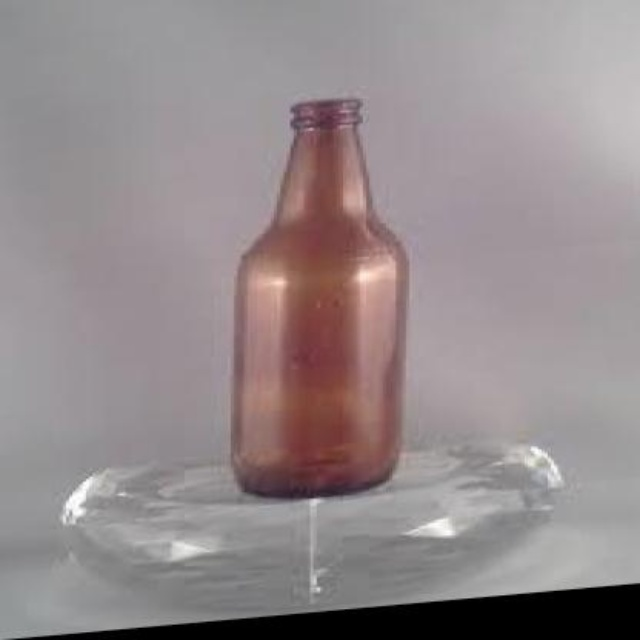trash: (232, 98, 406, 495)
